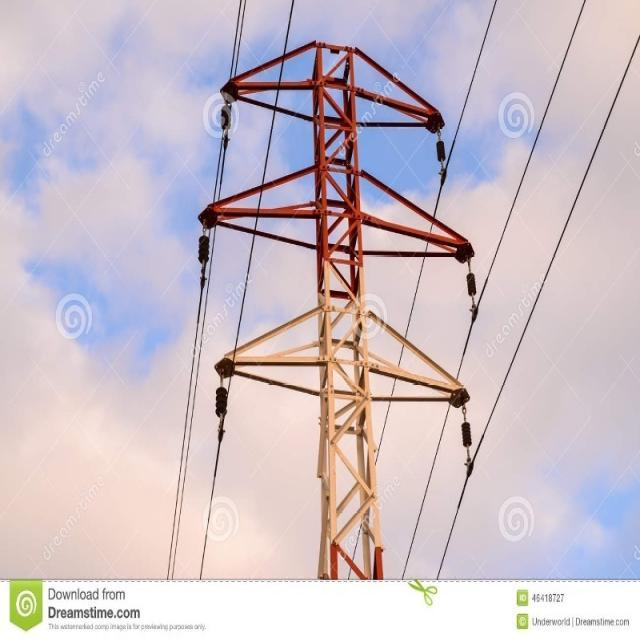non-critical vegetation: (209, 26, 456, 579)
